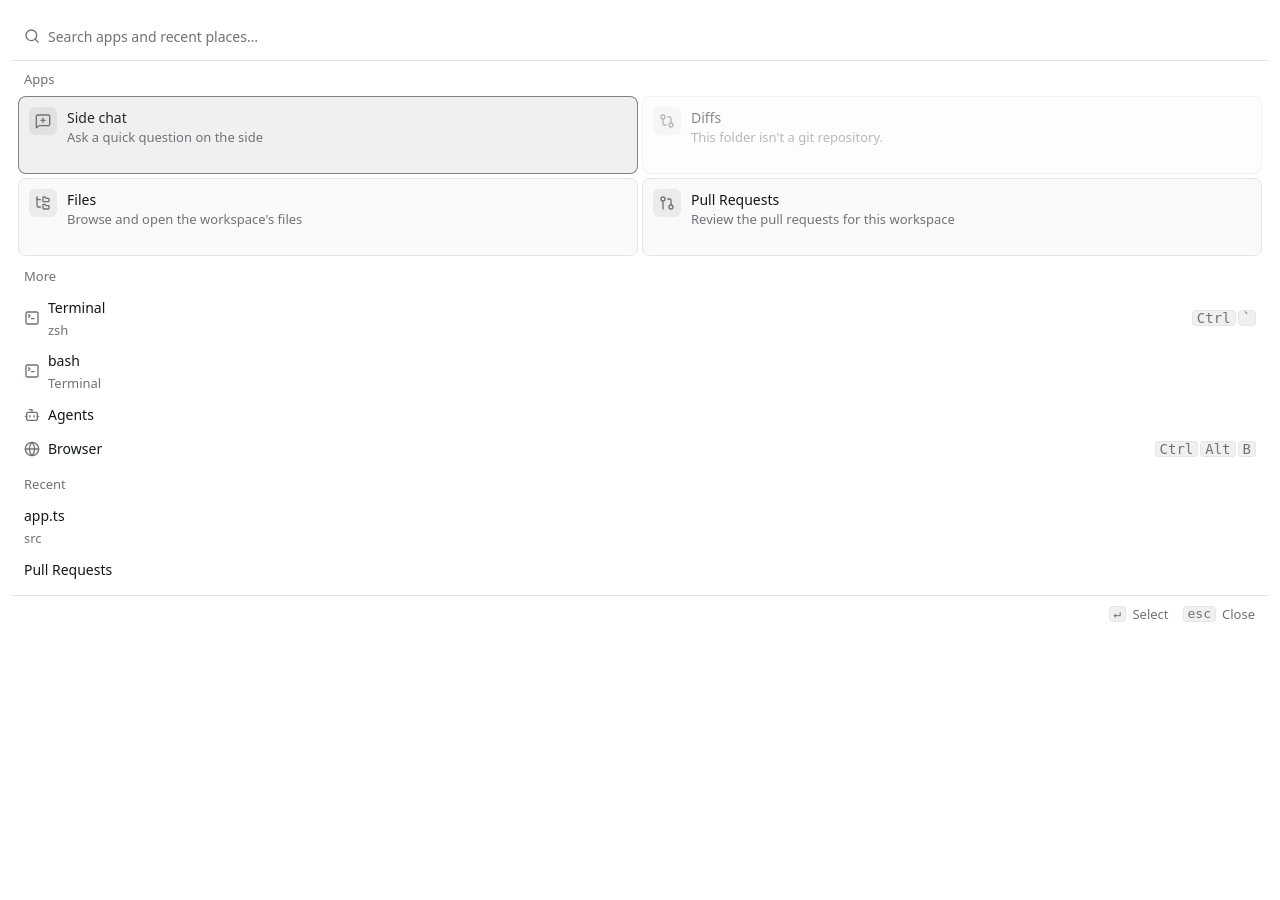
Test case: NewTabPage sections › filters apps and recent places together, and says when nothing matches
Type "pull" into the dropdown named "Open an app in this tab" at (652, 36), box 48,20 -> 1256,52
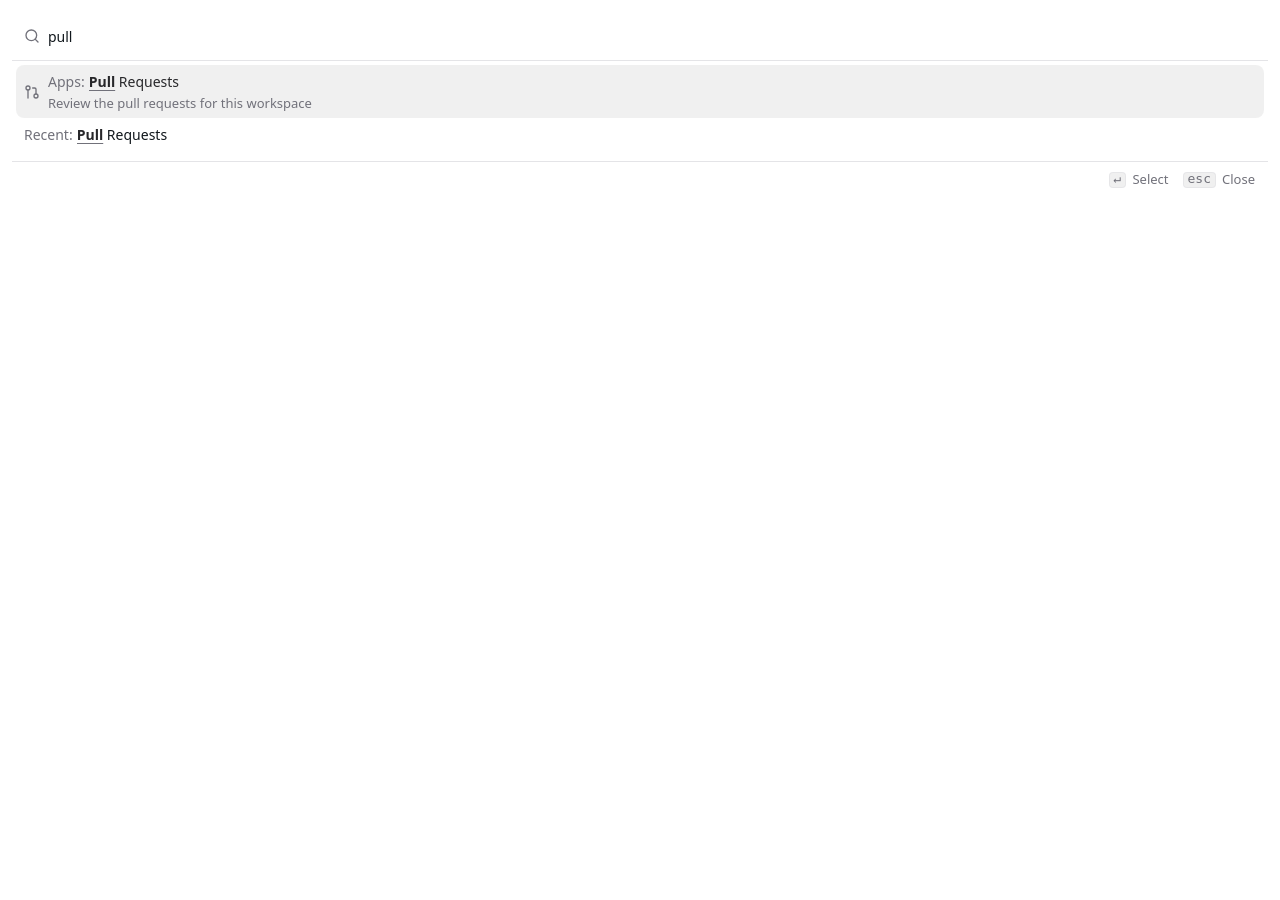
Replace the text in the dropdown named "Open an app in this tab" with "zzzz" at (652, 36), box 48,20 -> 1256,52
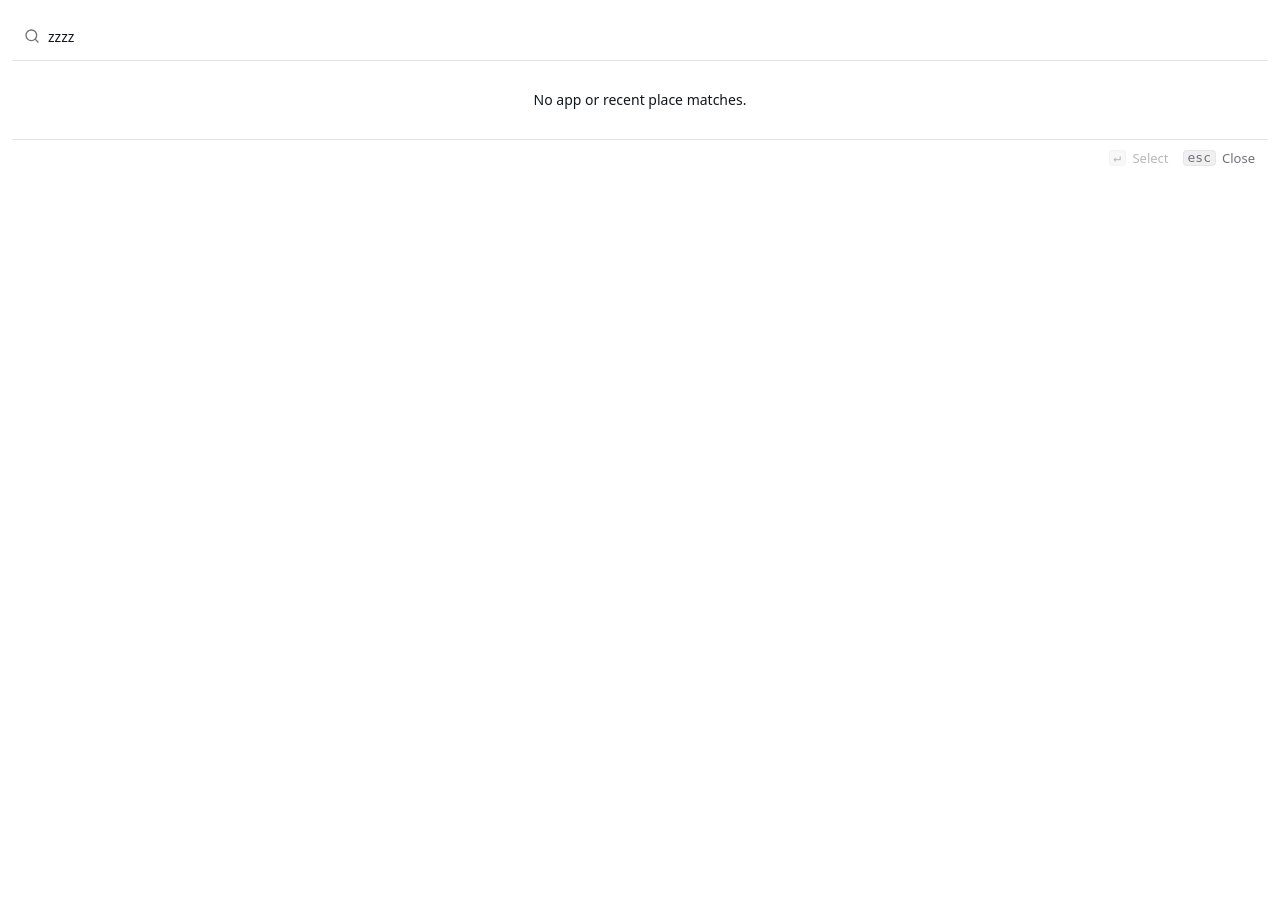
Now the text "No app or recent place matches." is shown, box 534,90 -> 746,109
